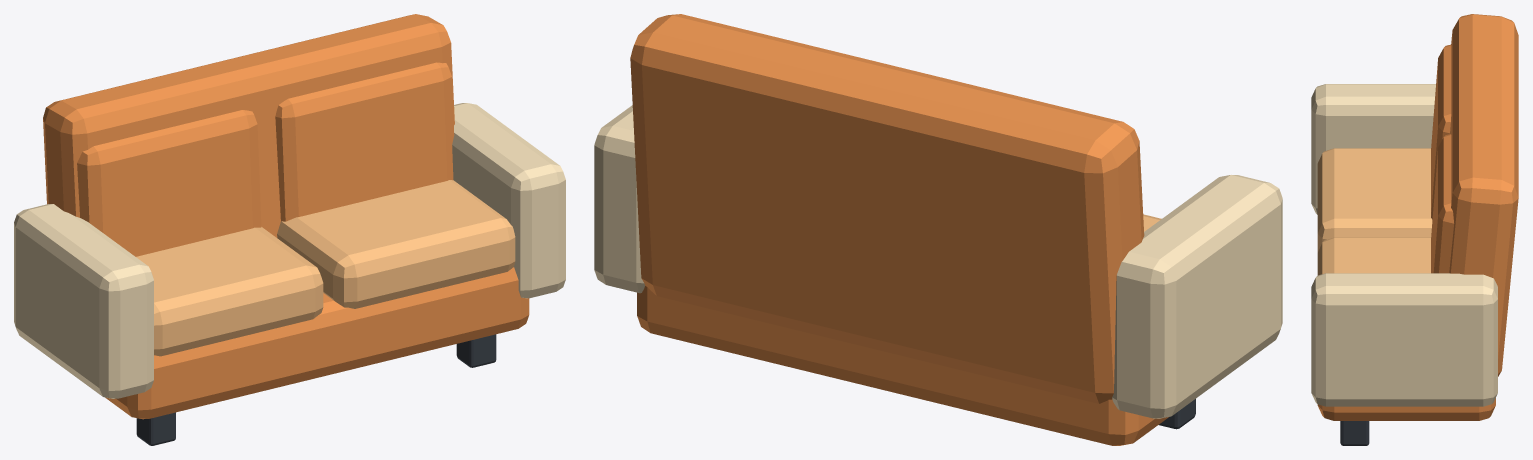
Rendered from TwoSeatSofa.fbx.
3 renders of one model, left to right at view 1: azimuth 30°, elevation 25°; view 2: azimuth 150°, elevation 25°; view 3: azimuth 270°, elevation 25°, orthographic. The views are drawn at different scales.
Parts seen in each view (by area): view 1: Sofa_Back, Sofa_Base, Cushion_Right, Arm_Left, Cushion_Left, Seat_Right, Seat_Left, Arm_Right, Sofa_Leg, Sofa_Leg.001; view 2: Sofa_Back, Arm_Left, Sofa_Base, Arm_Right; view 3: Arm_Right, Sofa_Back, Seat_Left, Arm_Left, Seat_Right, Sofa_Base, Cushion_Right, Cushion_Left, Sofa_Leg.001.
Part boxes in pixels (x1,y1,x2,y2): Sofa_Back: (43,14,454,237); Sofa_Base: (105,267,529,419); Cushion_Right: (275,62,454,221); Arm_Left: (14,204,153,398); Cushion_Left: (77,110,261,256); Seat_Right: (277,180,515,308); Seat_Left: (136,227,323,356); Arm_Right: (452,103,565,298); Sofa_Leg: (136,412,175,445); Sofa_Leg.001: (456,334,496,367); Sofa_Back: (630,14,1144,403); Arm_Left: (1112,175,1282,418); Sofa_Base: (637,286,1168,445); Arm_Right: (594,105,644,292); Arm_Right: (1311,273,1497,406); Sofa_Back: (1449,14,1518,376); Seat_Left: (1317,148,1432,252); Arm_Left: (1311,84,1435,214); Seat_Right: (1317,237,1430,275); Sofa_Base: (1317,398,1495,420); Cushion_Right: (1431,134,1454,273); Cushion_Left: (1431,44,1451,219); Sofa_Leg.001: (1340,421,1369,445).
Bounding box in the file's own units: 244 × 144 × 99.95.
